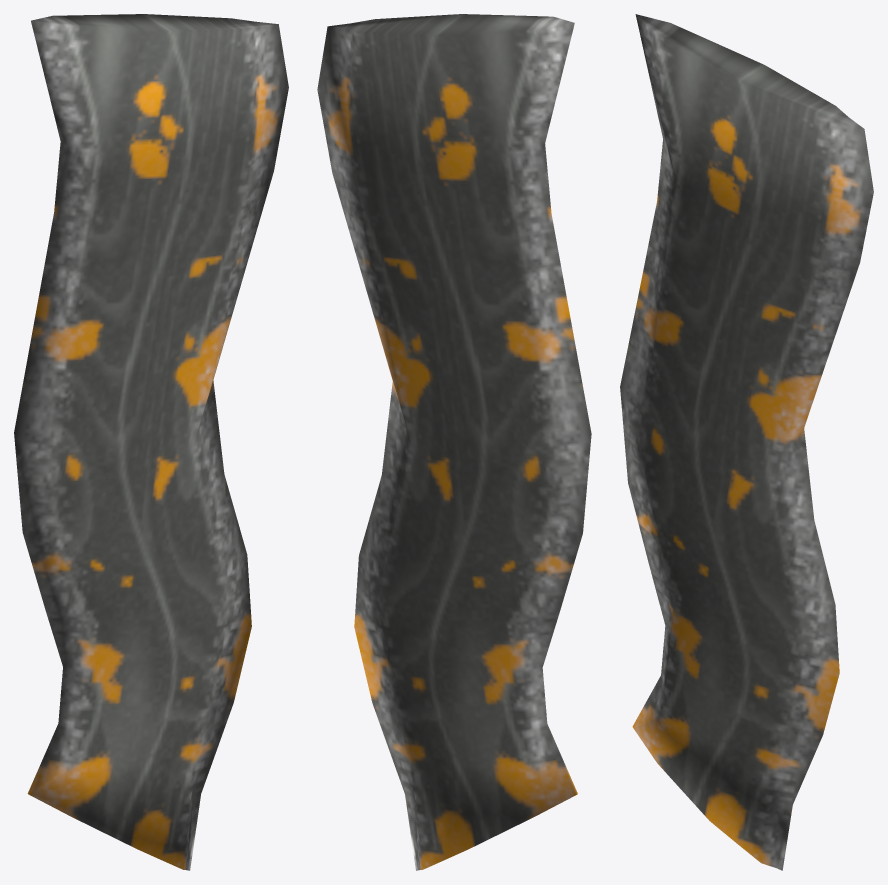
The model's file is Keris_tatarapang2.fbx.
The picture shows the model from 3 angles, left to right: view 1: azimuth 30°, elevation 25°; view 2: azimuth 150°, elevation 25°; view 3: azimuth 330°, elevation 25°; orthographic projection. The views are drawn at different scales.
Visible parts, largest first — view 1: blade-lp.001_Material-Bilah_0.003; view 2: blade-lp.001_Material-Bilah_0.003; view 3: blade-lp.001_Material-Bilah_0.003.
Boxes of the visible parts, left/top/right/bottom form: blade-lp.001_Material-Bilah_0.003: left=14, top=14, right=288, bottom=870; blade-lp.001_Material-Bilah_0.003: left=317, top=14, right=591, bottom=870; blade-lp.001_Material-Bilah_0.003: left=620, top=14, right=873, bottom=870.
Bounding box in the file's own units: 9.45 × 29.21 × 1.56.
1 material, 1 textured.
